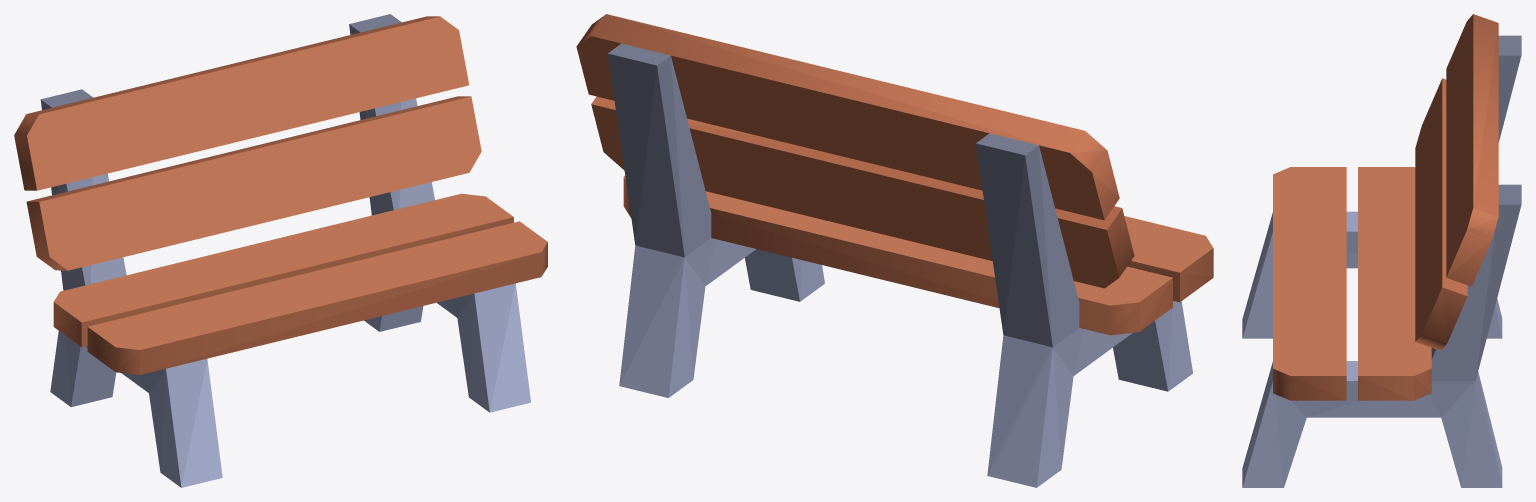
The picture shows the model from 3 angles, left to right: view 1: azimuth 30°, elevation 25°; view 2: azimuth 150°, elevation 25°; view 3: azimuth 270°, elevation 25°; orthographic projection. The views are drawn at different scales.
Parts seen in each view (by area): view 1: bench; view 2: bench; view 3: bench.
Boxes of the visible parts, <box> form: bench: <box>14,14,547,487</box>; bench: <box>576,14,1213,487</box>; bench: <box>1242,14,1521,487</box>.
Size of the model in its own units: 1.53 by 1 by 0.8654.
